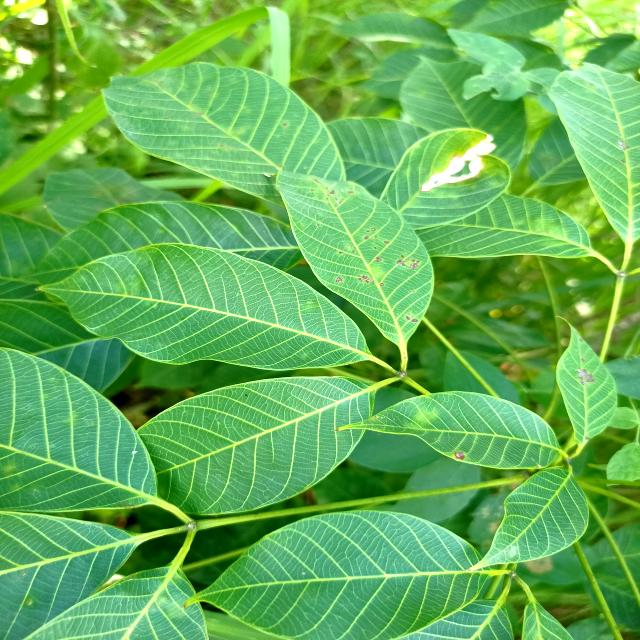Colletotrichum: (370, 228, 376, 231)
